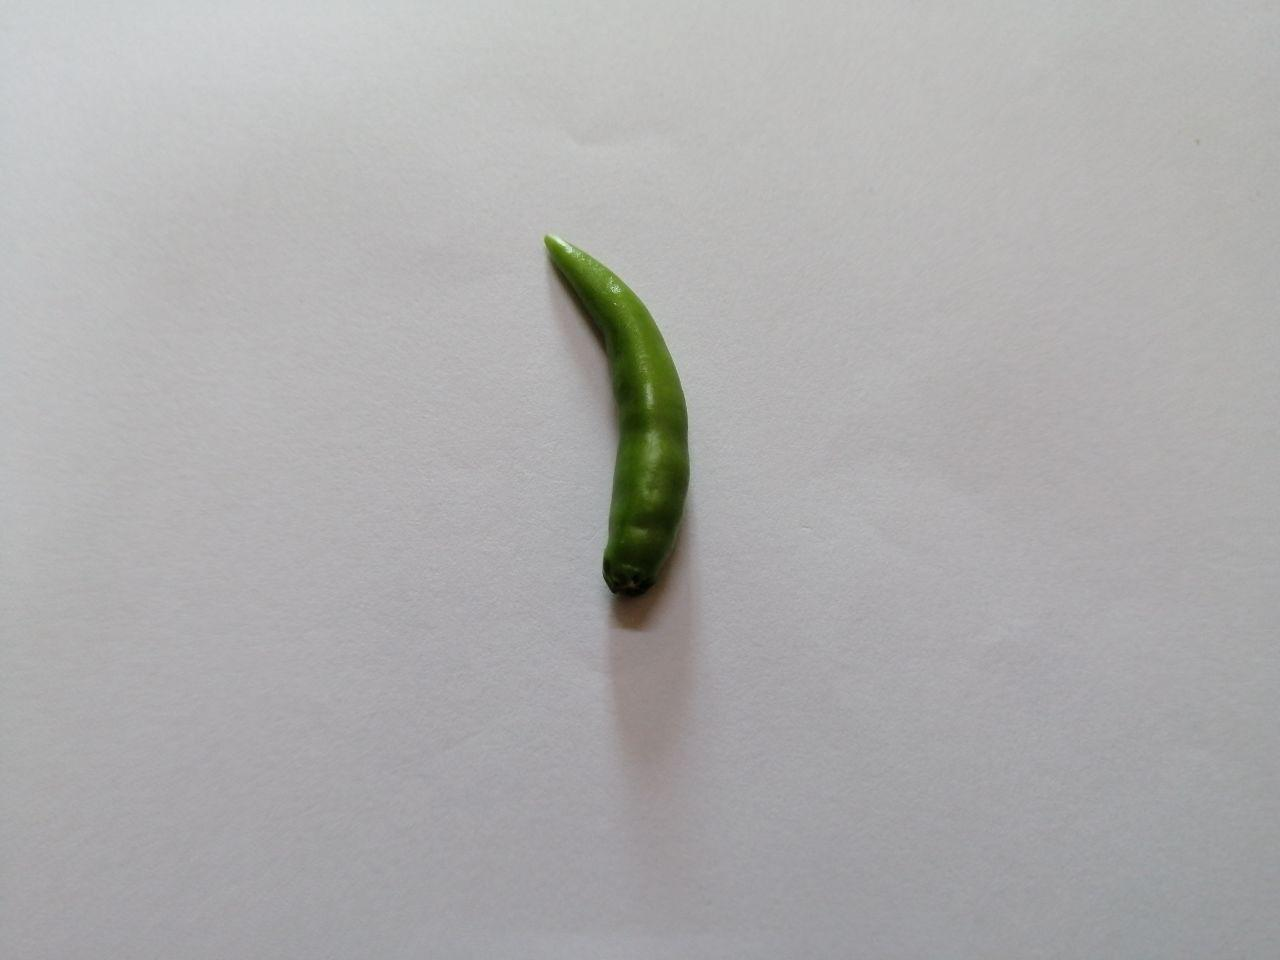lada hijau: (522, 214, 713, 637)
